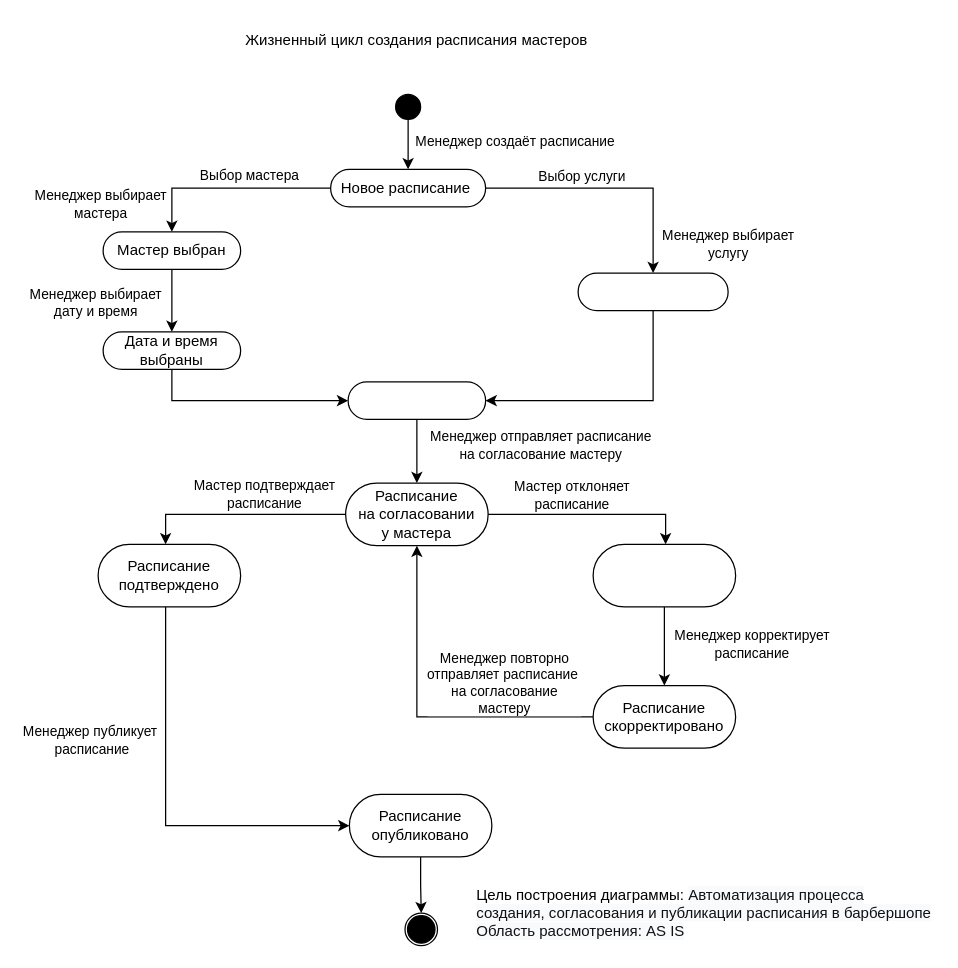
Image size: 958x968. Some labels were removed from this diagram. Here are the shapes that lost their labels. From the top down, the box of each, then its label:
(577, 272, 728, 311): Услуга выбрана
(347, 381, 486, 419): Расписание составлено
(592, 543, 736, 607): Расписание отклонено
